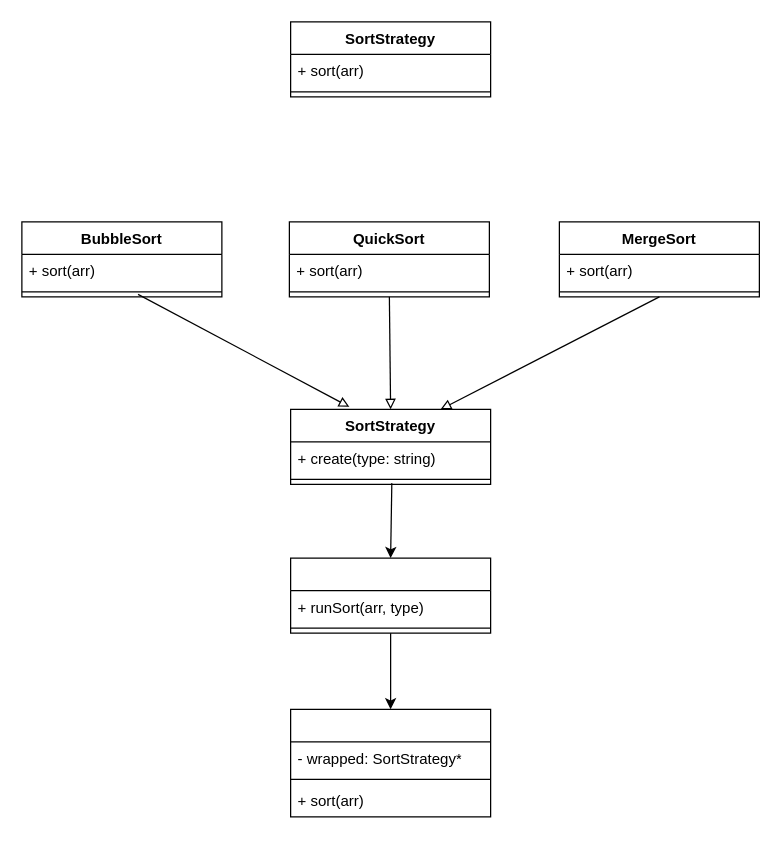
This 781x843 diagram has some shape labels left out. The box of each missing label's shape, as (x1, y1, x2, y2) in pixels:
SortingFacade: (289, 557, 491, 633)
TimedSortDecorator: (289, 708, 491, 817)
